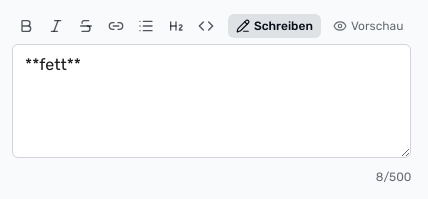
it: MarkdownEditor behaviour › renders the live preview through MarkdownContent (identical to the read side)
Click the tab "Vorschau" at x=368, y=26, box [325, 14, 412, 38]
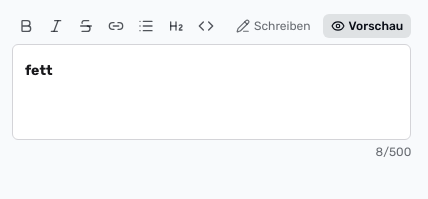
Expected: the text "fett" is shown, [25, 62, 52, 79]
